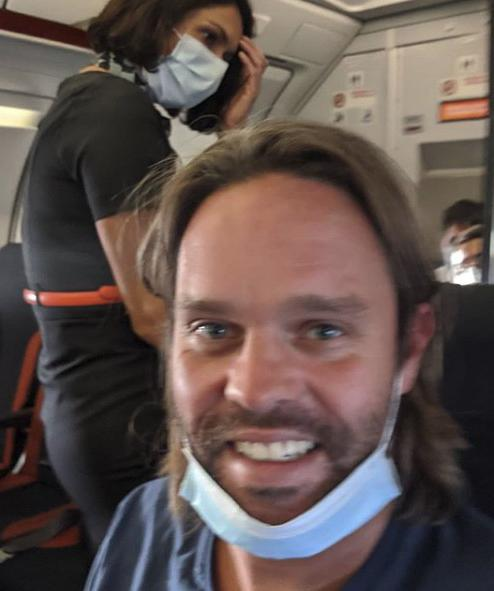mask_weared_incorrect: (176, 261, 392, 536)
with_mask: (149, 20, 246, 105)
